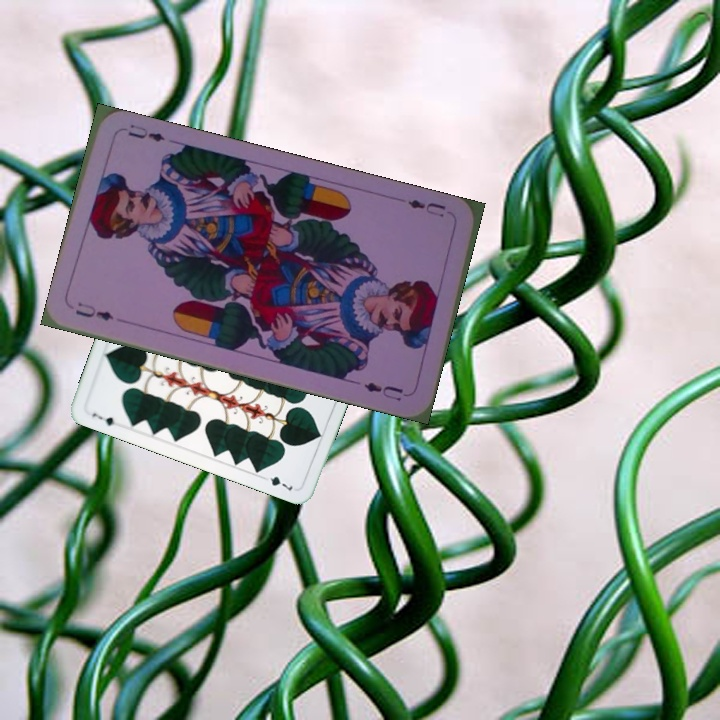EU: (71, 298, 116, 324), (403, 195, 448, 220)
G7: (88, 409, 117, 429)
